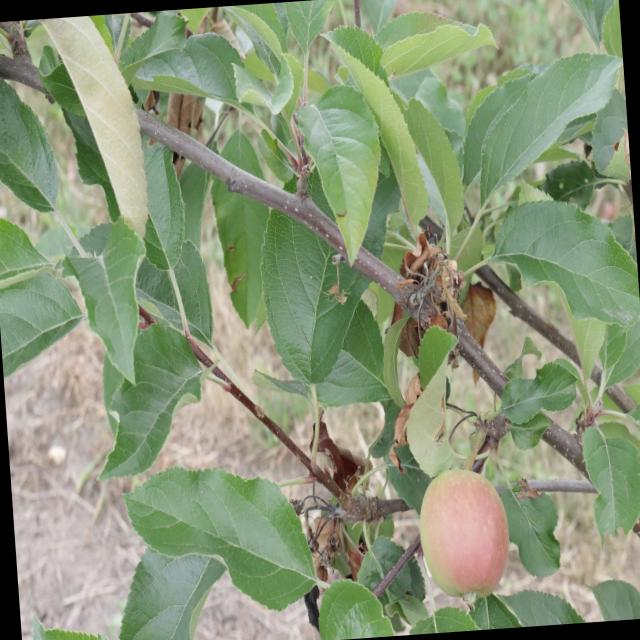-FireBlight-: (390, 231, 497, 364), (305, 413, 375, 578), (376, 356, 431, 470)
